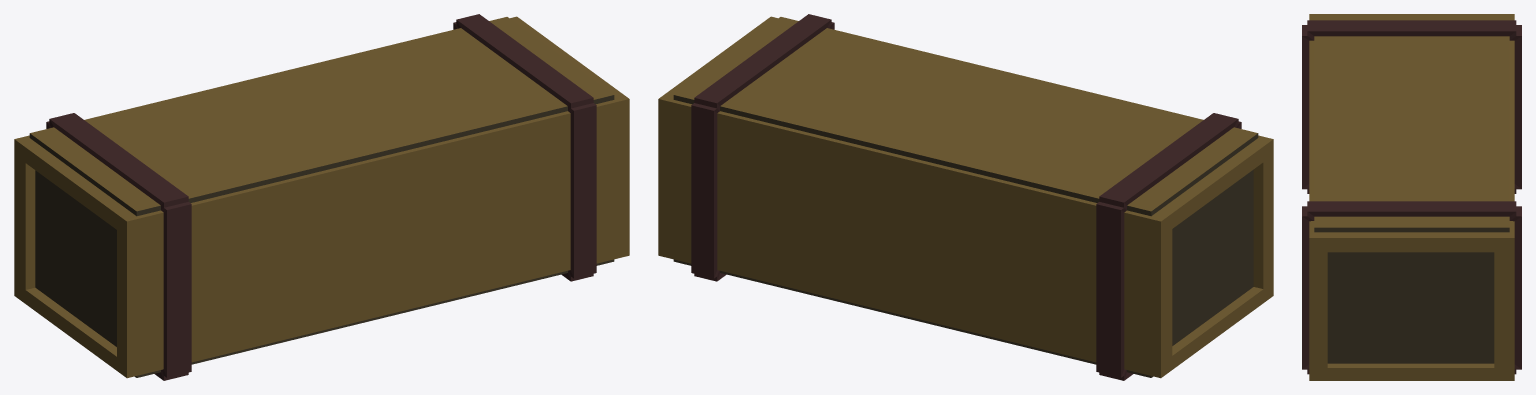
The model's file is Caja 2.fbx.
The picture shows the model from 3 angles, left to right: view 1: azimuth 30°, elevation 25°; view 2: azimuth 150°, elevation 25°; view 3: azimuth 270°, elevation 25°; orthographic projection. The views are drawn at different scales.
Visible parts, largest first — view 1: Cube; view 2: Cube; view 3: Cube.
Part boxes in pixels (left/top/right/bottom): Cube: left=14, top=14, right=629, bottom=380; Cube: left=658, top=14, right=1273, bottom=380; Cube: left=1302, top=14, right=1521, bottom=380.
Bounding box in the file's own units: 515 × 175 × 214.
